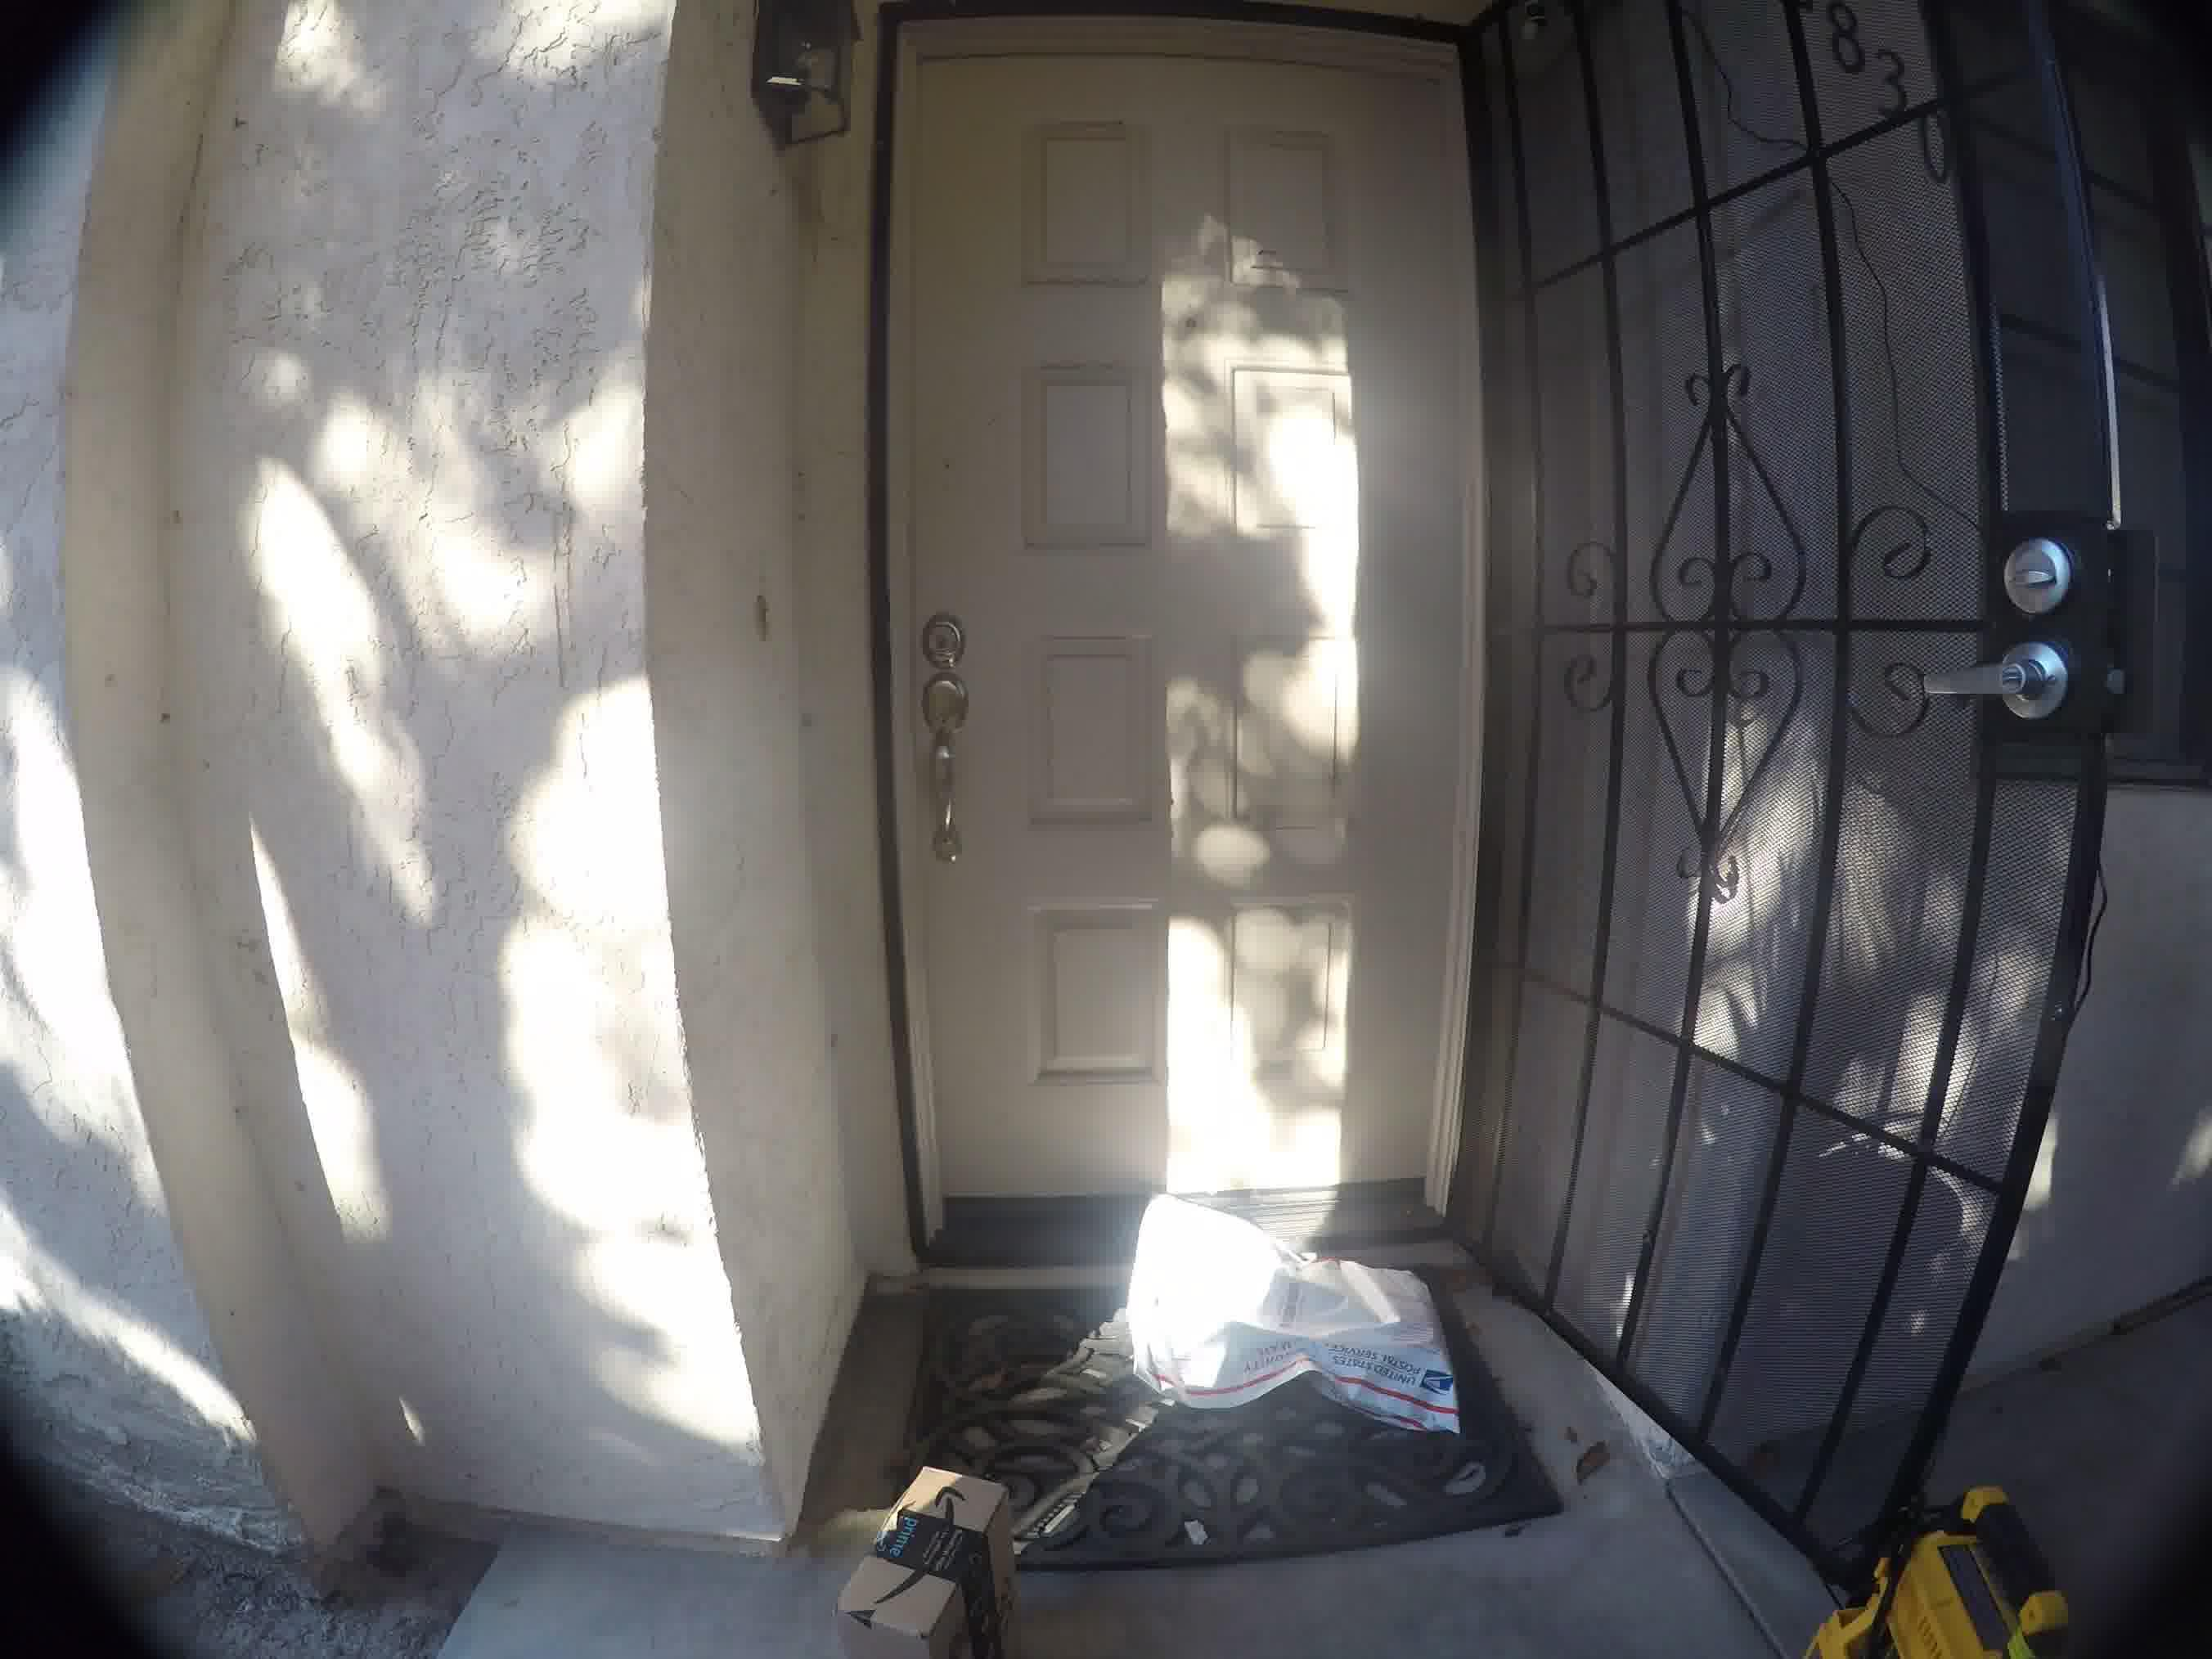box: (843, 1422, 1012, 1645)
plastic_bag: (1136, 1169, 1475, 1459)
